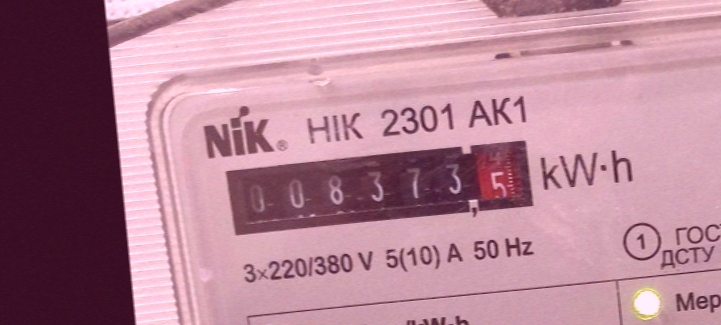0: (244, 177, 268, 215), (284, 172, 306, 210)
3: (440, 157, 466, 196), (363, 165, 387, 203)
4: (484, 145, 504, 167)
5: (487, 166, 509, 197)
7: (402, 160, 424, 201)
8: (323, 168, 347, 206)
screen: (218, 130, 542, 247)
